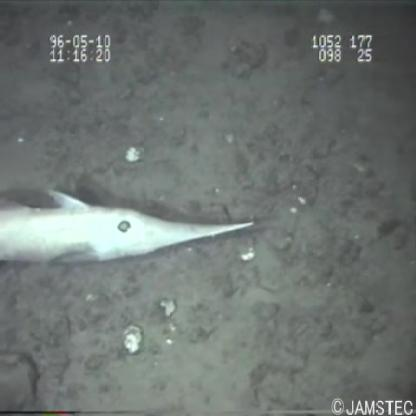Bio: (1, 184, 254, 270)
